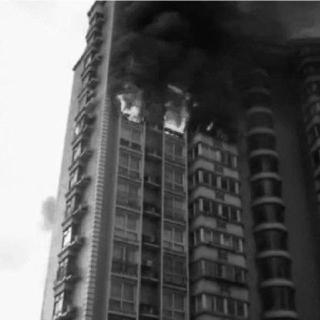Fire: (207, 118, 230, 140), (66, 119, 86, 135)
Smoke: (126, 6, 262, 97)
